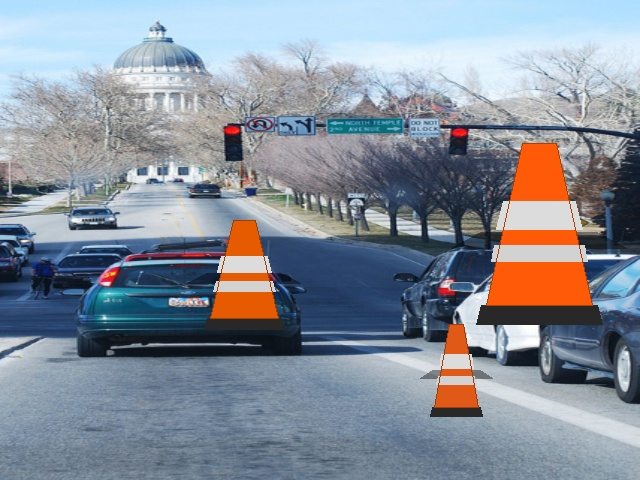traffic-cone: (476, 143, 602, 324), (204, 220, 284, 329), (430, 324, 482, 416)
